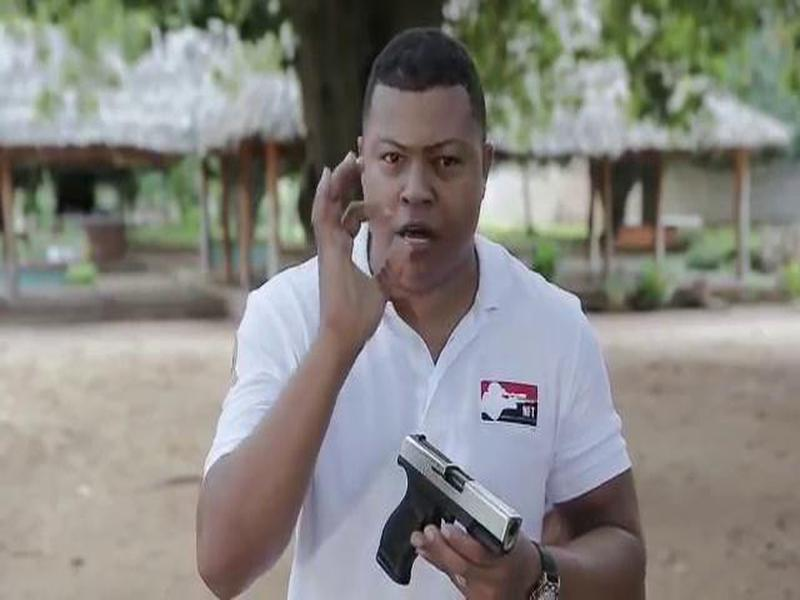Pistola: (367, 424, 531, 588)
